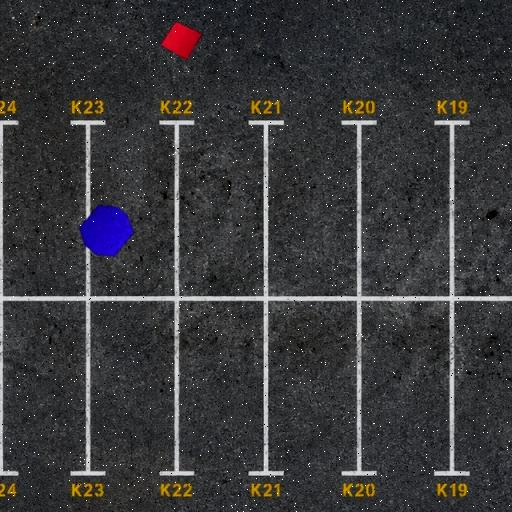RED_SQUARE: (160, 21, 203, 60)
